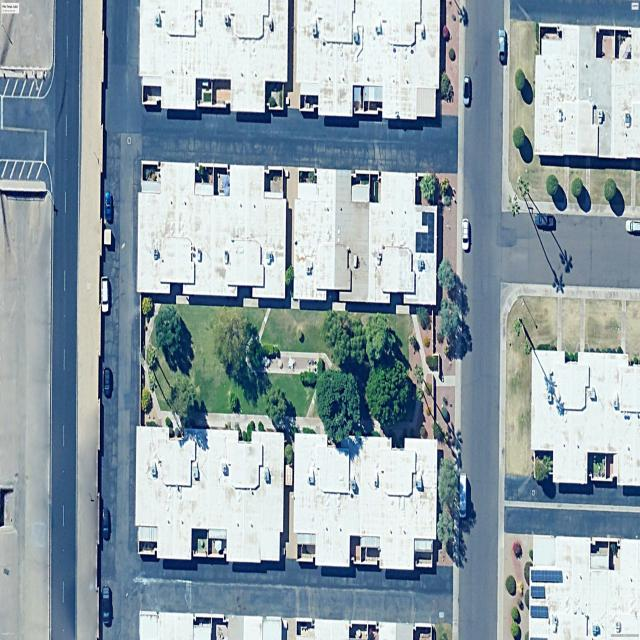Home: (137, 159, 288, 300), (135, 425, 285, 563), (292, 169, 438, 306), (293, 434, 438, 571), (295, 0, 440, 120), (139, 0, 288, 112), (527, 23, 640, 160), (531, 351, 640, 485), (529, 535, 640, 640)
